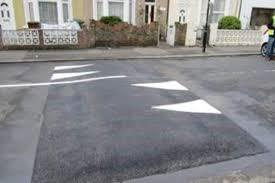speedbreaker: (33, 64, 270, 180)
